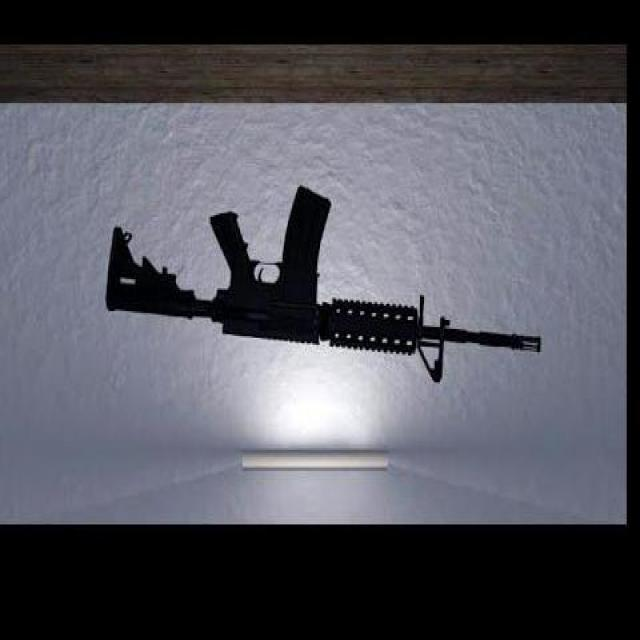weapon: (105, 184, 544, 384)
